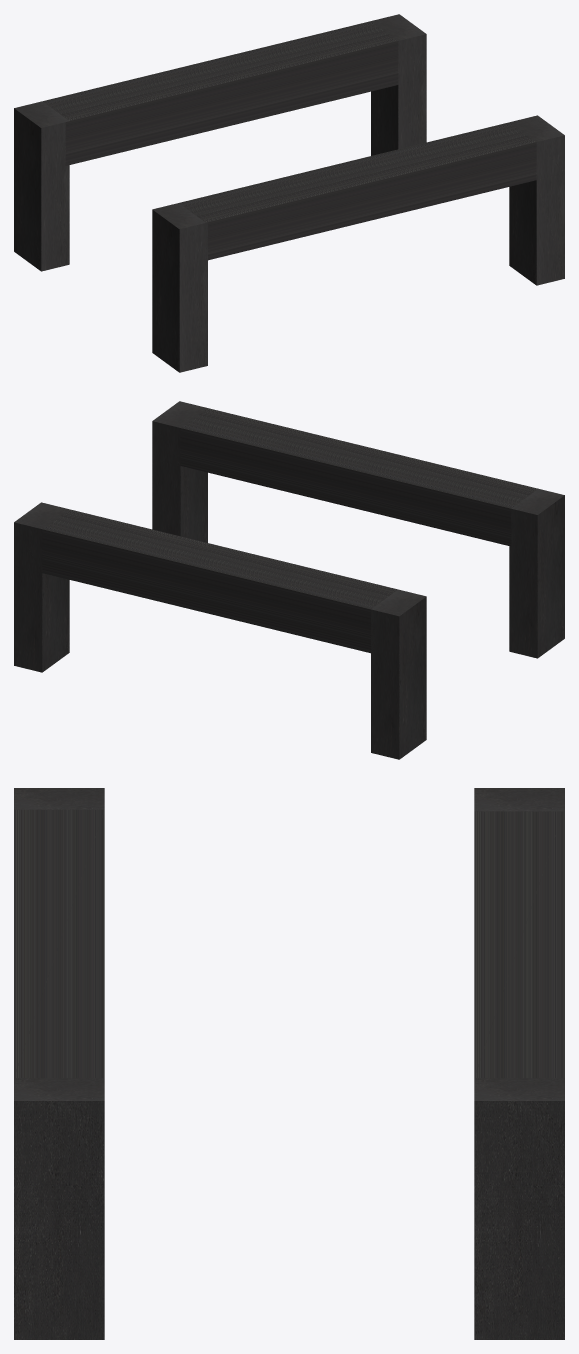
File: oldschoolPatasIndustrial.glb
3 renders of one model, top to bottom at view 1: azimuth 30°, elevation 25°; view 2: azimuth 150°, elevation 25°; view 3: azimuth 270°, elevation 25°, orthographic. The views are drawn at different scales.
Parts seen in each view (by area): view 1: Cube.004, Cube.001; view 2: Cube.004, Cube.001; view 3: Cube.001, Cube.004.
Boxes of the visible parts, left/top/right/bottom form: Cube.004: left=14, top=14, right=426, bottom=271; Cube.001: left=152, top=115, right=564, bottom=372; Cube.004: left=14, top=502, right=426, bottom=759; Cube.001: left=152, top=401, right=564, bottom=658; Cube.001: left=14, top=788, right=104, bottom=1339; Cube.004: left=474, top=788, right=564, bottom=1339.
Size of the model in its own units: 1.41 by 0.5016 by 1.05.
Materials: 2 (2 with a texture image).
